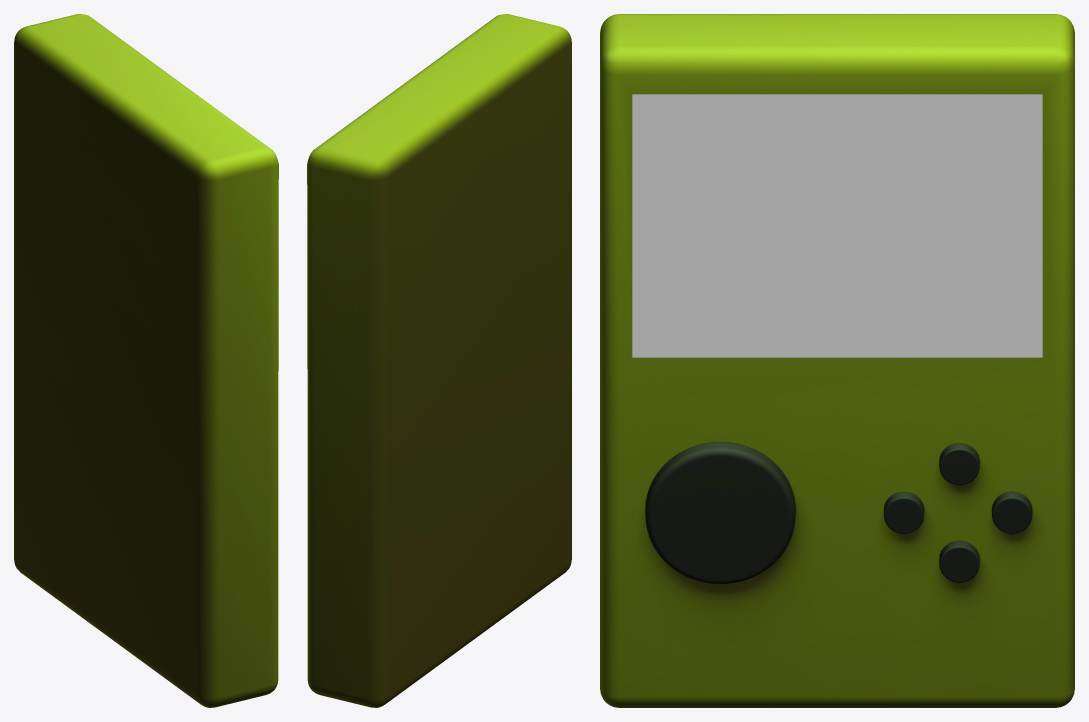
The model's file is handheld.glb.
The picture shows the model from 3 angles, left to right: view 1: azimuth 30°, elevation 25°; view 2: azimuth 150°, elevation 25°; view 3: azimuth 270°, elevation 25°; orthographic projection. The views are drawn at different scales.
Parts seen in each view (by area): view 1: Cube; view 2: Cube; view 3: Cube, screen, Cylinder, Cylinder.004, Cylinder.005, Cylinder.003, Cylinder.002.
Part boxes in pixels (<box>): Cube: <box>14,14,278,707</box>; Cube: <box>307,14,571,707</box>; Cube: <box>600,14,1074,707</box>; screen: <box>632,94,1042,357</box>; Cylinder: <box>645,442,795,584</box>; Cylinder.004: <box>939,541,979,583</box>; Cylinder.005: <box>939,443,979,485</box>; Cylinder.003: <box>992,492,1032,534</box>; Cylinder.002: <box>884,492,924,534</box>.
Size of the model in its own units: 0.054 by 0.301 by 0.1963.
4 materials, 2 textured.
